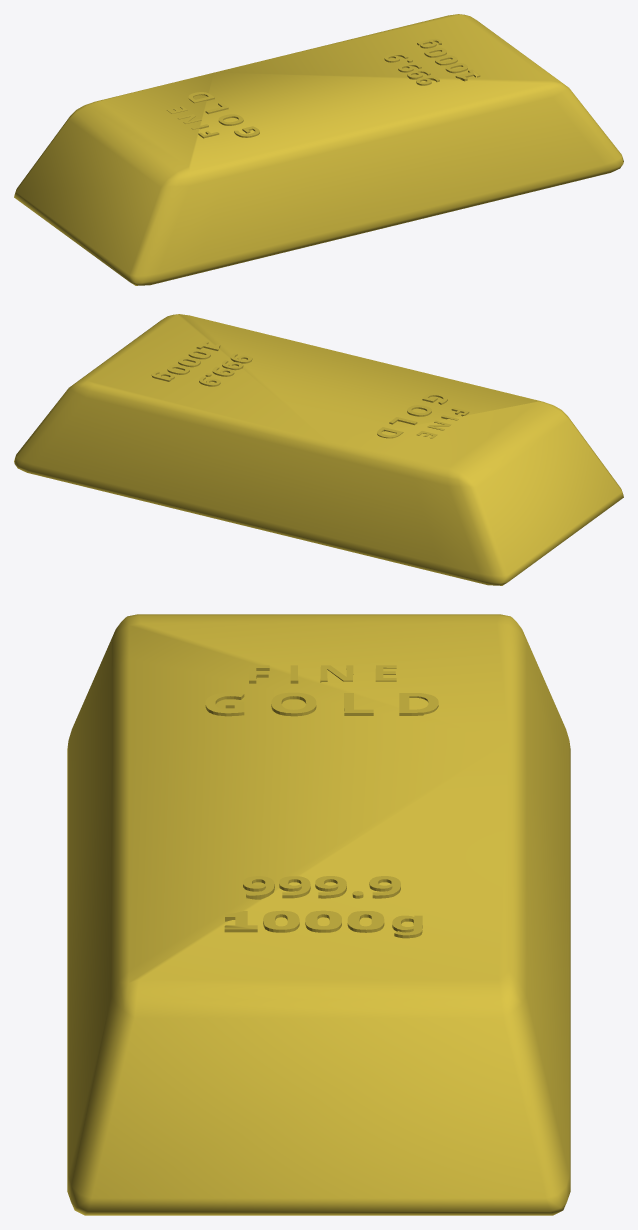
The model's file is asset-gold.fbx.
The picture shows the model from 3 angles, top to bottom: view 1: azimuth 30°, elevation 25°; view 2: azimuth 150°, elevation 25°; view 3: azimuth 270°, elevation 25°; orthographic projection. The views are drawn at different scales.
Visible parts, largest first — view 1: Cube.004; view 2: Cube.004; view 3: Cube.004.
Part boxes in pixels (x1,y1,x2,y2): Cube.004: (14,14,623,285); Cube.004: (14,314,623,585); Cube.004: (67,614,570,1215).
Size of the model in its own units: 19.23 by 3.5 by 8.47.
